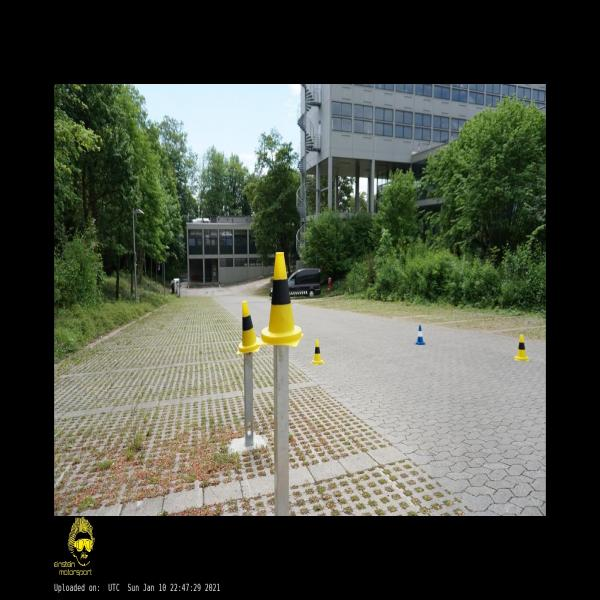blue_cone: (414, 325, 425, 345)
yellow_cone: (256, 252, 304, 347), (237, 300, 260, 354), (514, 334, 529, 361), (311, 339, 324, 365)
